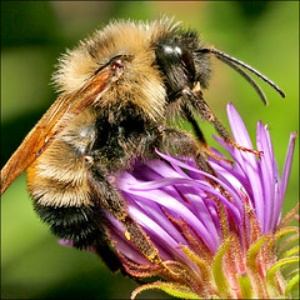bee: (2, 9, 288, 275)
